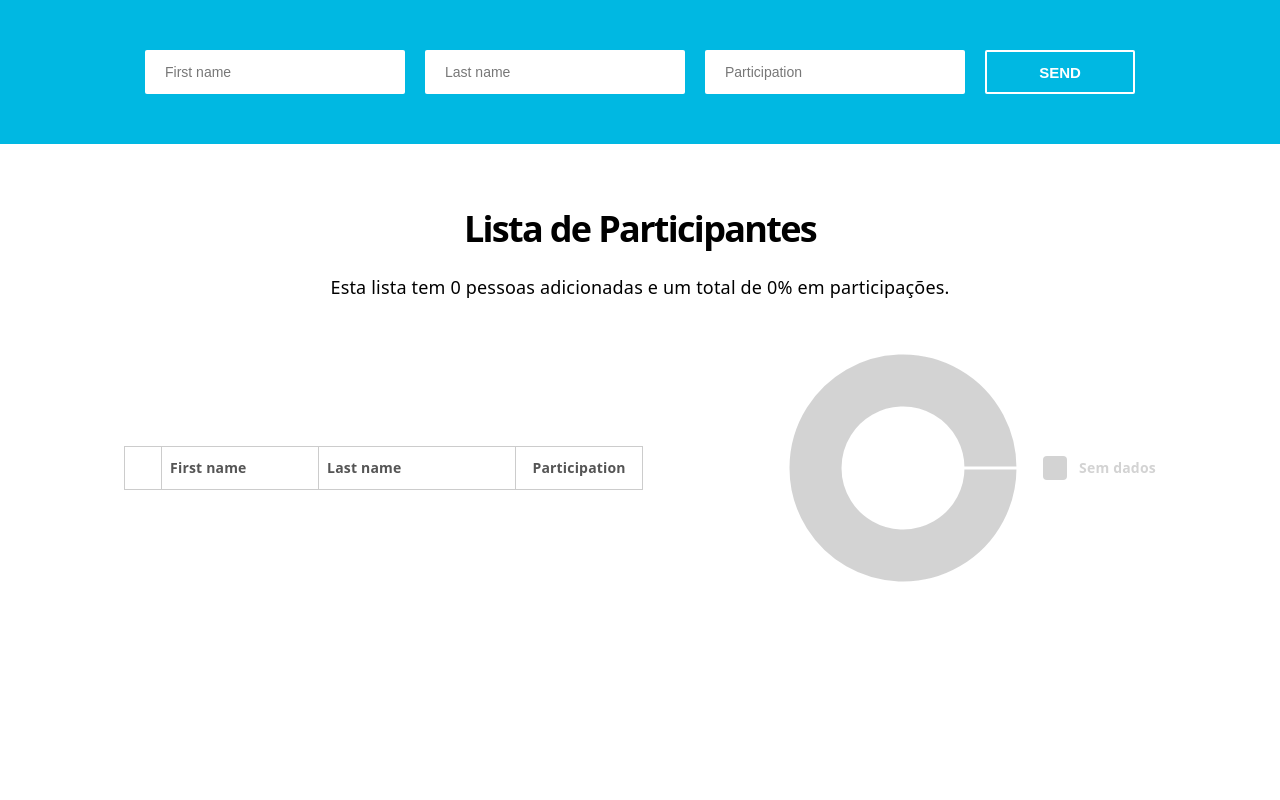
App › mostra a mensagem de erro da API quando o cadastro é recusado
Type "Ana" into the field with placeholder "First name". click: (275, 72)
box: 145,50 -> 405,94
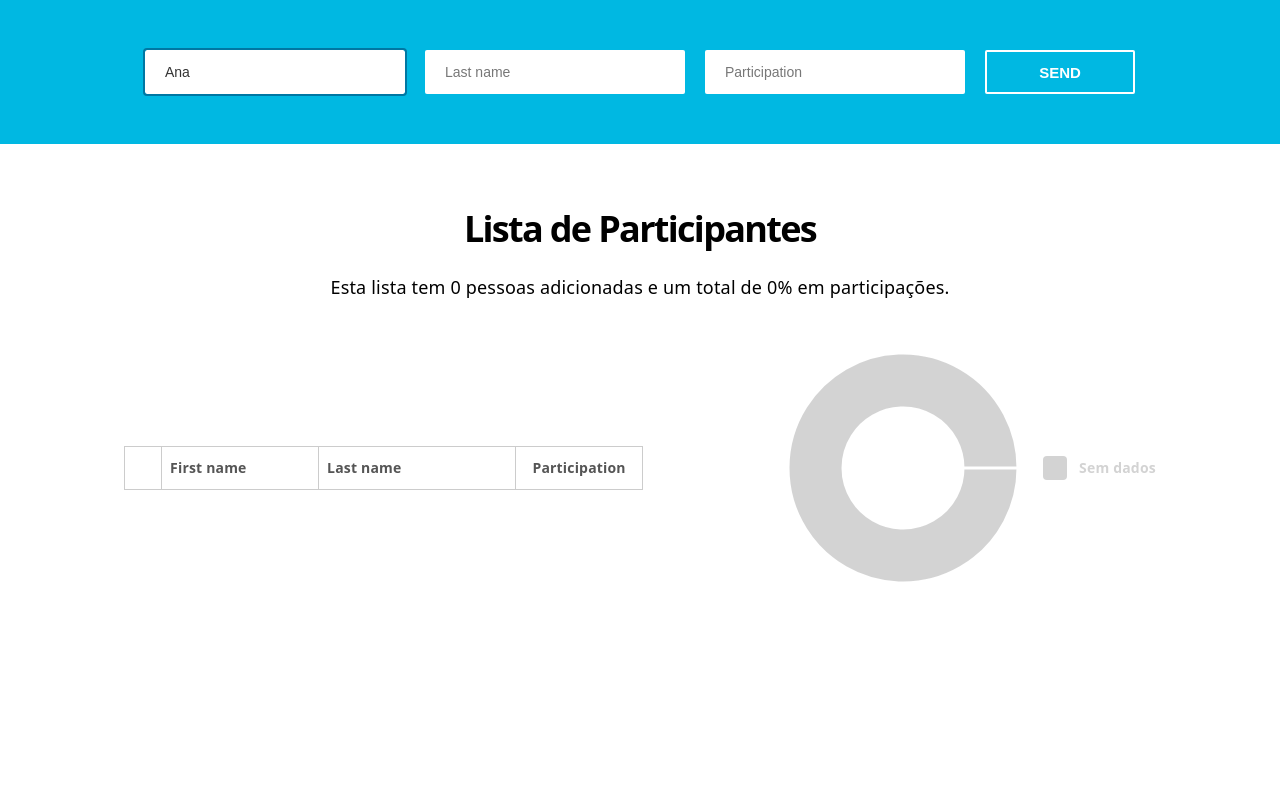
Type "Silva" into the field with placeholder "Last name". click: (555, 72)
box: 425,50 -> 685,94
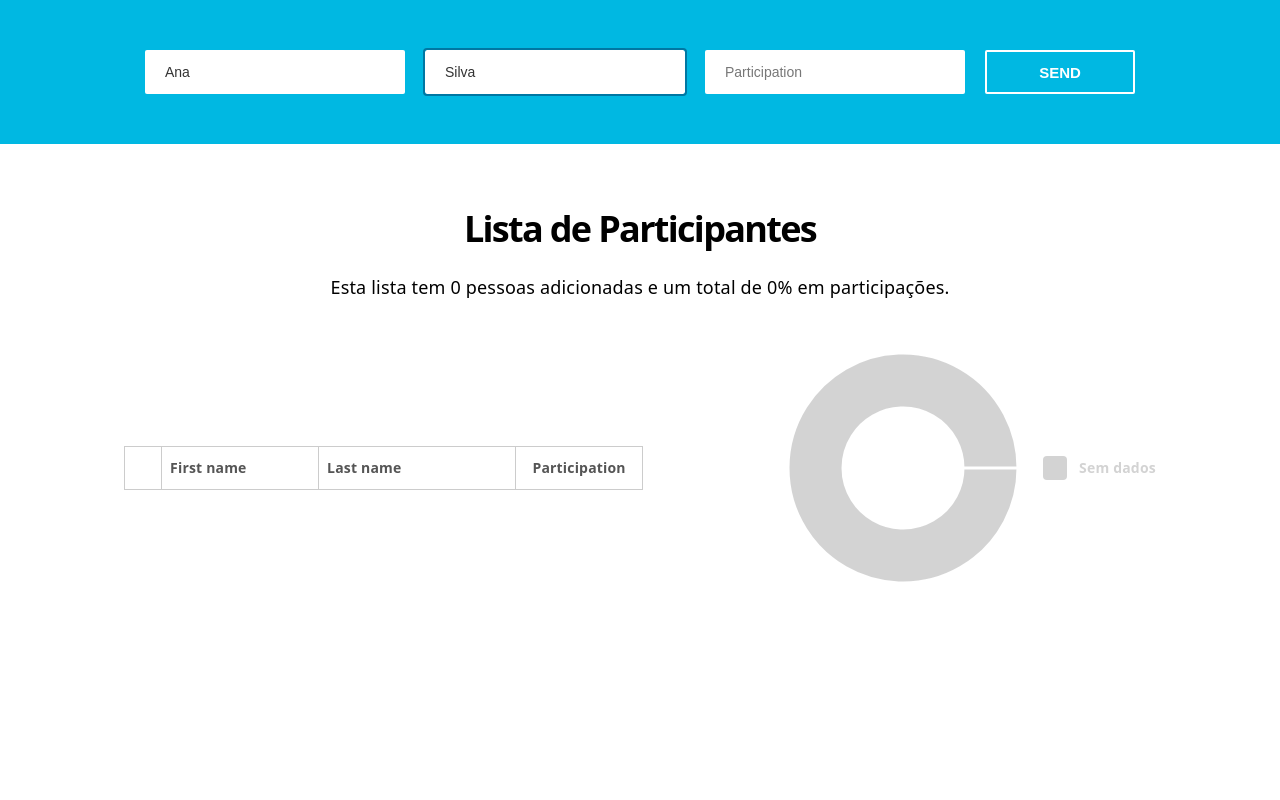
Type "50" into the field with placeholder "Participation". click: (835, 72)
box: 705,50 -> 965,94
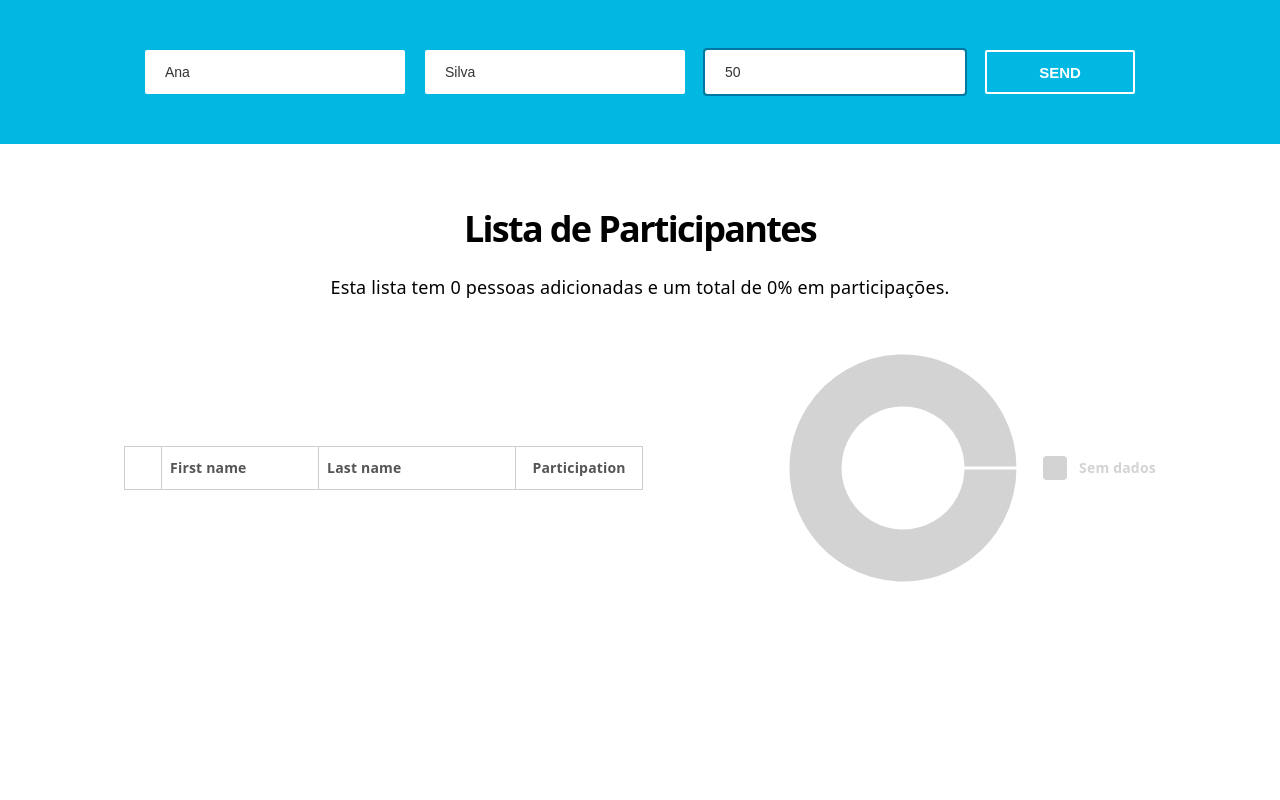
Click the button "SEND". click: (1060, 72)
box: 985,50 -> 1135,94
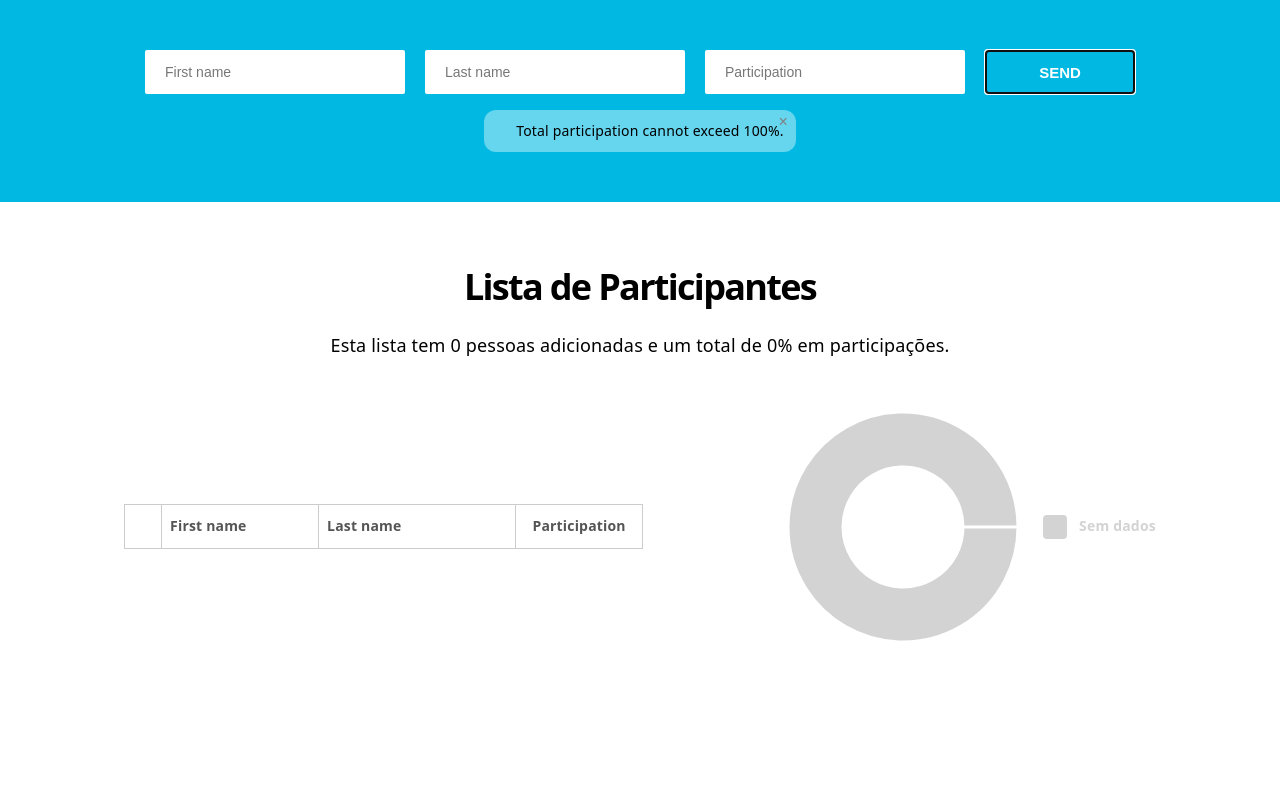
Result: the text "Total participation cannot exceed 100%." is shown at 516,118 -> 784,144
